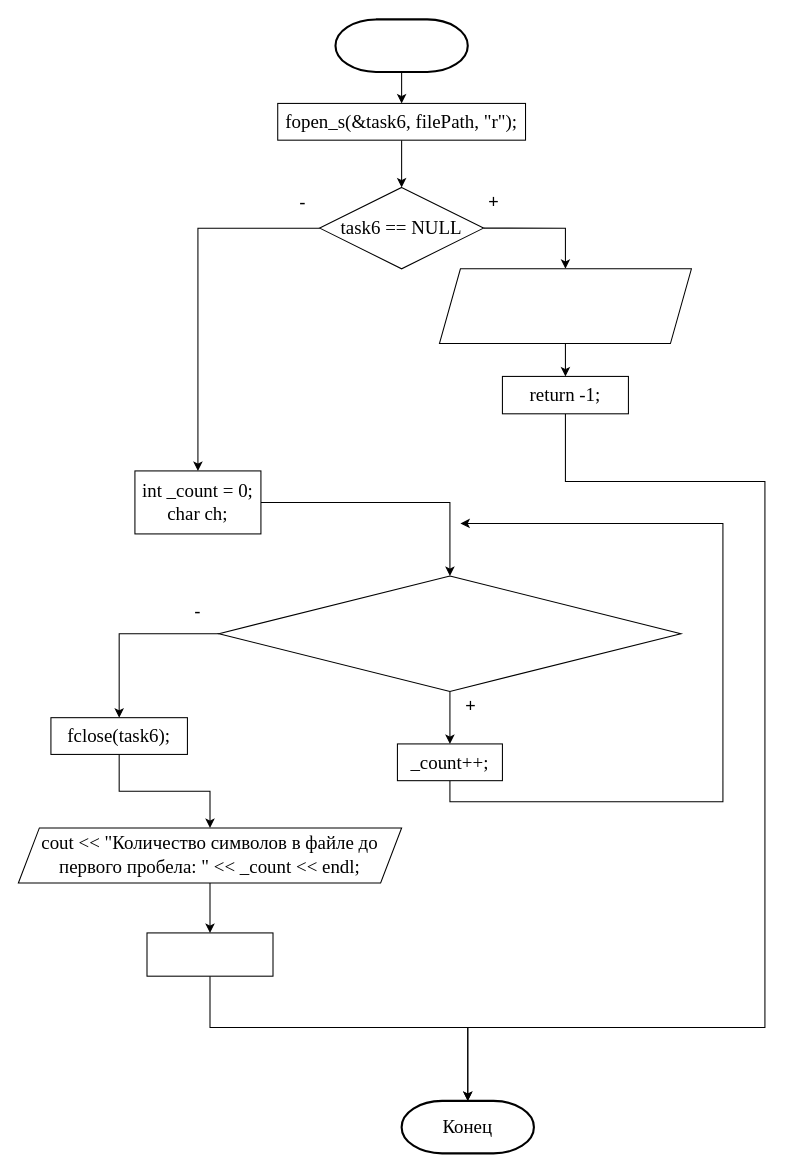
This 792x1172 diagram has some shape labels left out. Here are the shapes that lost their labels. From the top down, the centre of each, then its label:
the point at 401,45: Начало
the point at 564,306: cout << "Ошибка открытия файла, он пустой" << endl;
the point at 449,633: (ch = fgetc(task6)) != EOF && !isspace(ch)
the point at 209,954: return _count;
